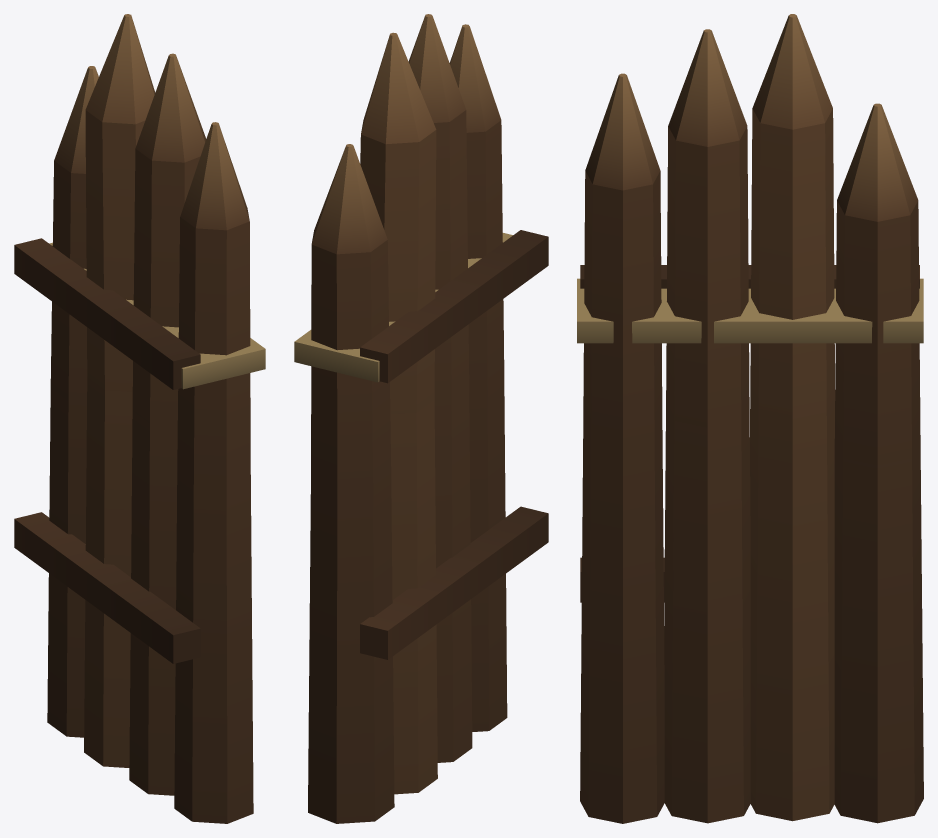
File: b_palisade.glb
The picture shows the model from 3 angles, left to right: view 1: azimuth 30°, elevation 25°; view 2: azimuth 150°, elevation 25°; view 3: azimuth 270°, elevation 25°; orthographic projection. The views are drawn at different scales.
Visible parts, largest first — view 1: wood, cloth; view 2: wood, cloth; view 3: wood, cloth.
Boxes of the visible parts, left/top/right/bottom form: wood: left=14, top=14, right=253, bottom=823; cloth: left=49, top=242, right=265, bottom=389; wood: left=308, top=14, right=548, bottom=823; cloth: left=294, top=233, right=512, bottom=382; wood: left=580, top=14, right=923, bottom=823; cloth: left=577, top=278, right=923, bottom=343.
Size of the model in its own units: 0.354 by 2.55 by 1.02.
